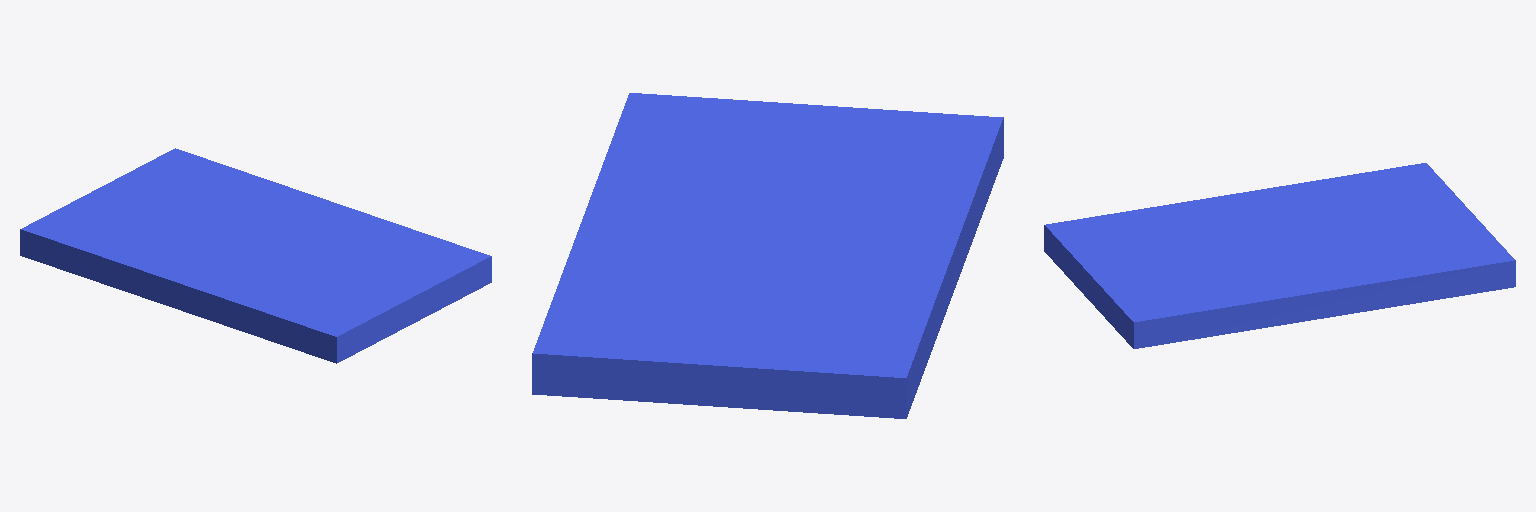
URDF robot description (Interference):
<?xml version="1.0"?>
<robot name="Interference">
  <link name="baseLink">
    <inertial>
      <origin xyz="0.0 0.0 0.0" rpy="0.0 0.0 0.0"/>
      <inertia ixx="0.0" ixy="0.0" ixz="0.0" iyy="0.0" iyz="0.0" izz="0.0"/>
      <mass value="0"/>
    </inertial>
    <visual>
      <origin xyz="0.0 0.0 0.0" rpy="0.0 0.0 -1.2030409607851837"/>
      <geometry>
        <box size="0.13805826016377803 0.08367173308835162 0.01"/>
      </geometry>
      <material name="color">
        <color rgba="0.35431329002246637 0.45868726032354623 0.9807411511759613 1.0"/>
      </material>
    </visual>
  </link>
</robot>

--- Facts derived from the render (not from the file) ---
3 views of the same robot in one strip: view 1: azimuth 30°, elevation 25°; view 2: azimuth 150°, elevation 25°; view 3: azimuth 270°, elevation 25° (orthographic).
Model Interference with 1 links and 0 joints (none), rooted at baseLink, posed all joints at 0.
Links seen in each view (by area): view 1: baseLink; view 2: baseLink; view 3: baseLink.
Boxes of the visible links, box(x1,y1,x2,y2) form: baseLink: box(20, 148, 491, 363); baseLink: box(532, 93, 1003, 418); baseLink: box(1044, 163, 1515, 348).
Size in the robot's own frame: 0.1277 by 0.1589 by 0.01 metres.
Geometry: primitives only (box / cylinder / sphere), no mesh files.